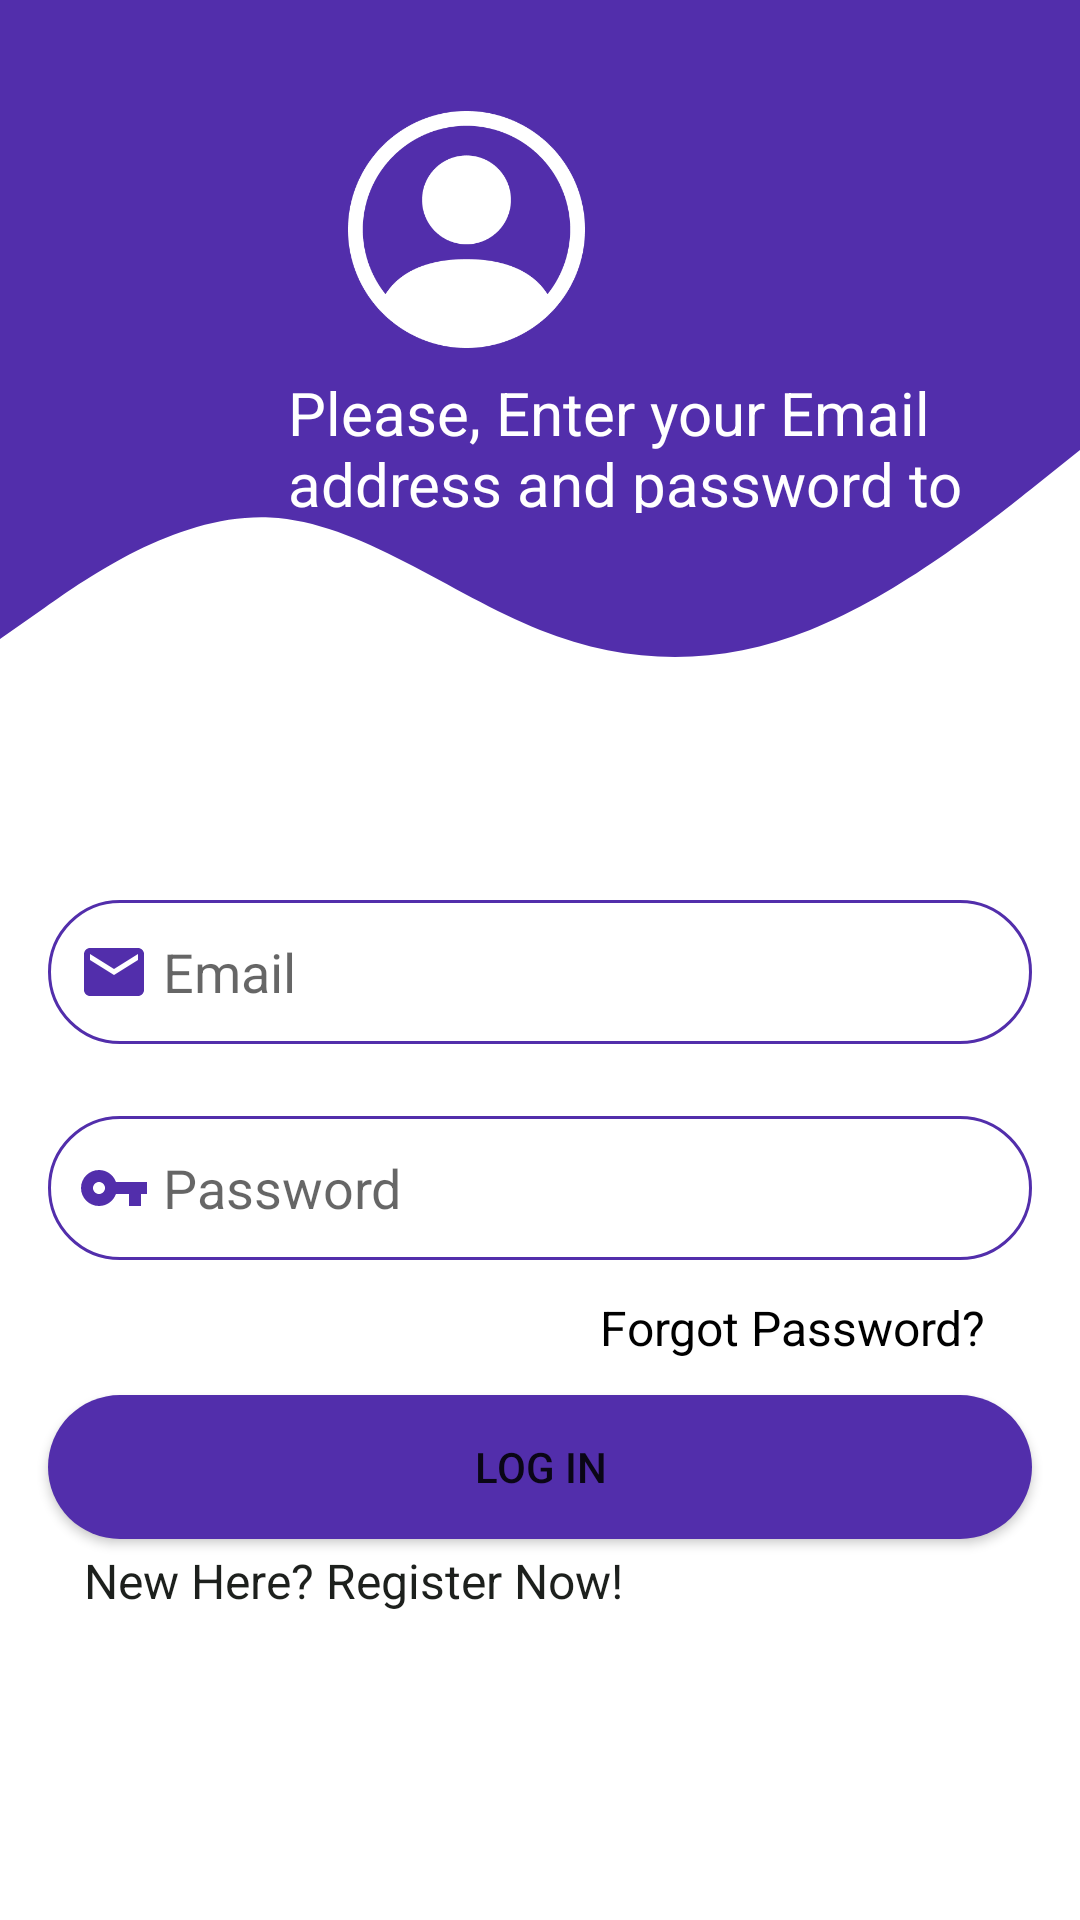

Named icons in this screenshot (1080px x 1920px) and their bounding boxes, Rect(x1, y1, x2, y2):
orang: Rect(348, 111, 585, 348)
